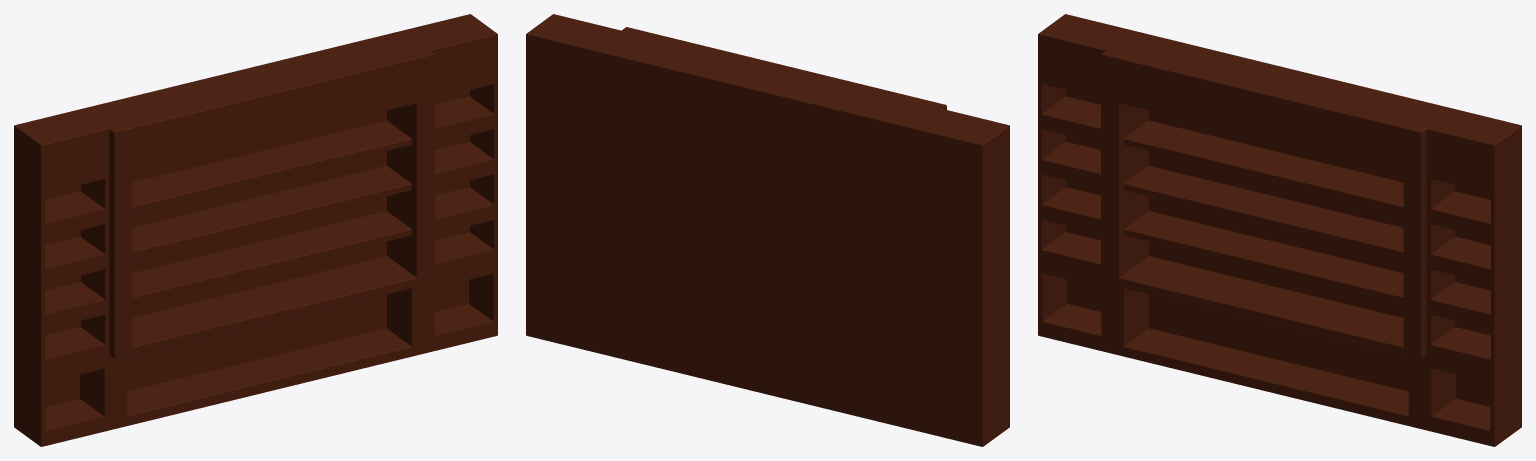
The model's file is LargeBookShelf1.glb.
3 renders of one model, left to right at view 1: azimuth 30°, elevation 25°; view 2: azimuth 150°, elevation 25°; view 3: azimuth 330°, elevation 25°, orthographic.
Visible parts, largest first — view 1: LargeBookShelf1; view 2: LargeBookShelf1; view 3: LargeBookShelf1.
Boxes of the visible parts, x1,y1,x2,y2 form: LargeBookShelf1: (14,14,497,446); LargeBookShelf1: (526,14,1009,446); LargeBookShelf1: (1038,14,1521,446).
Bounding box in the file's own units: 3.86 × 2.44 × 0.4747.
